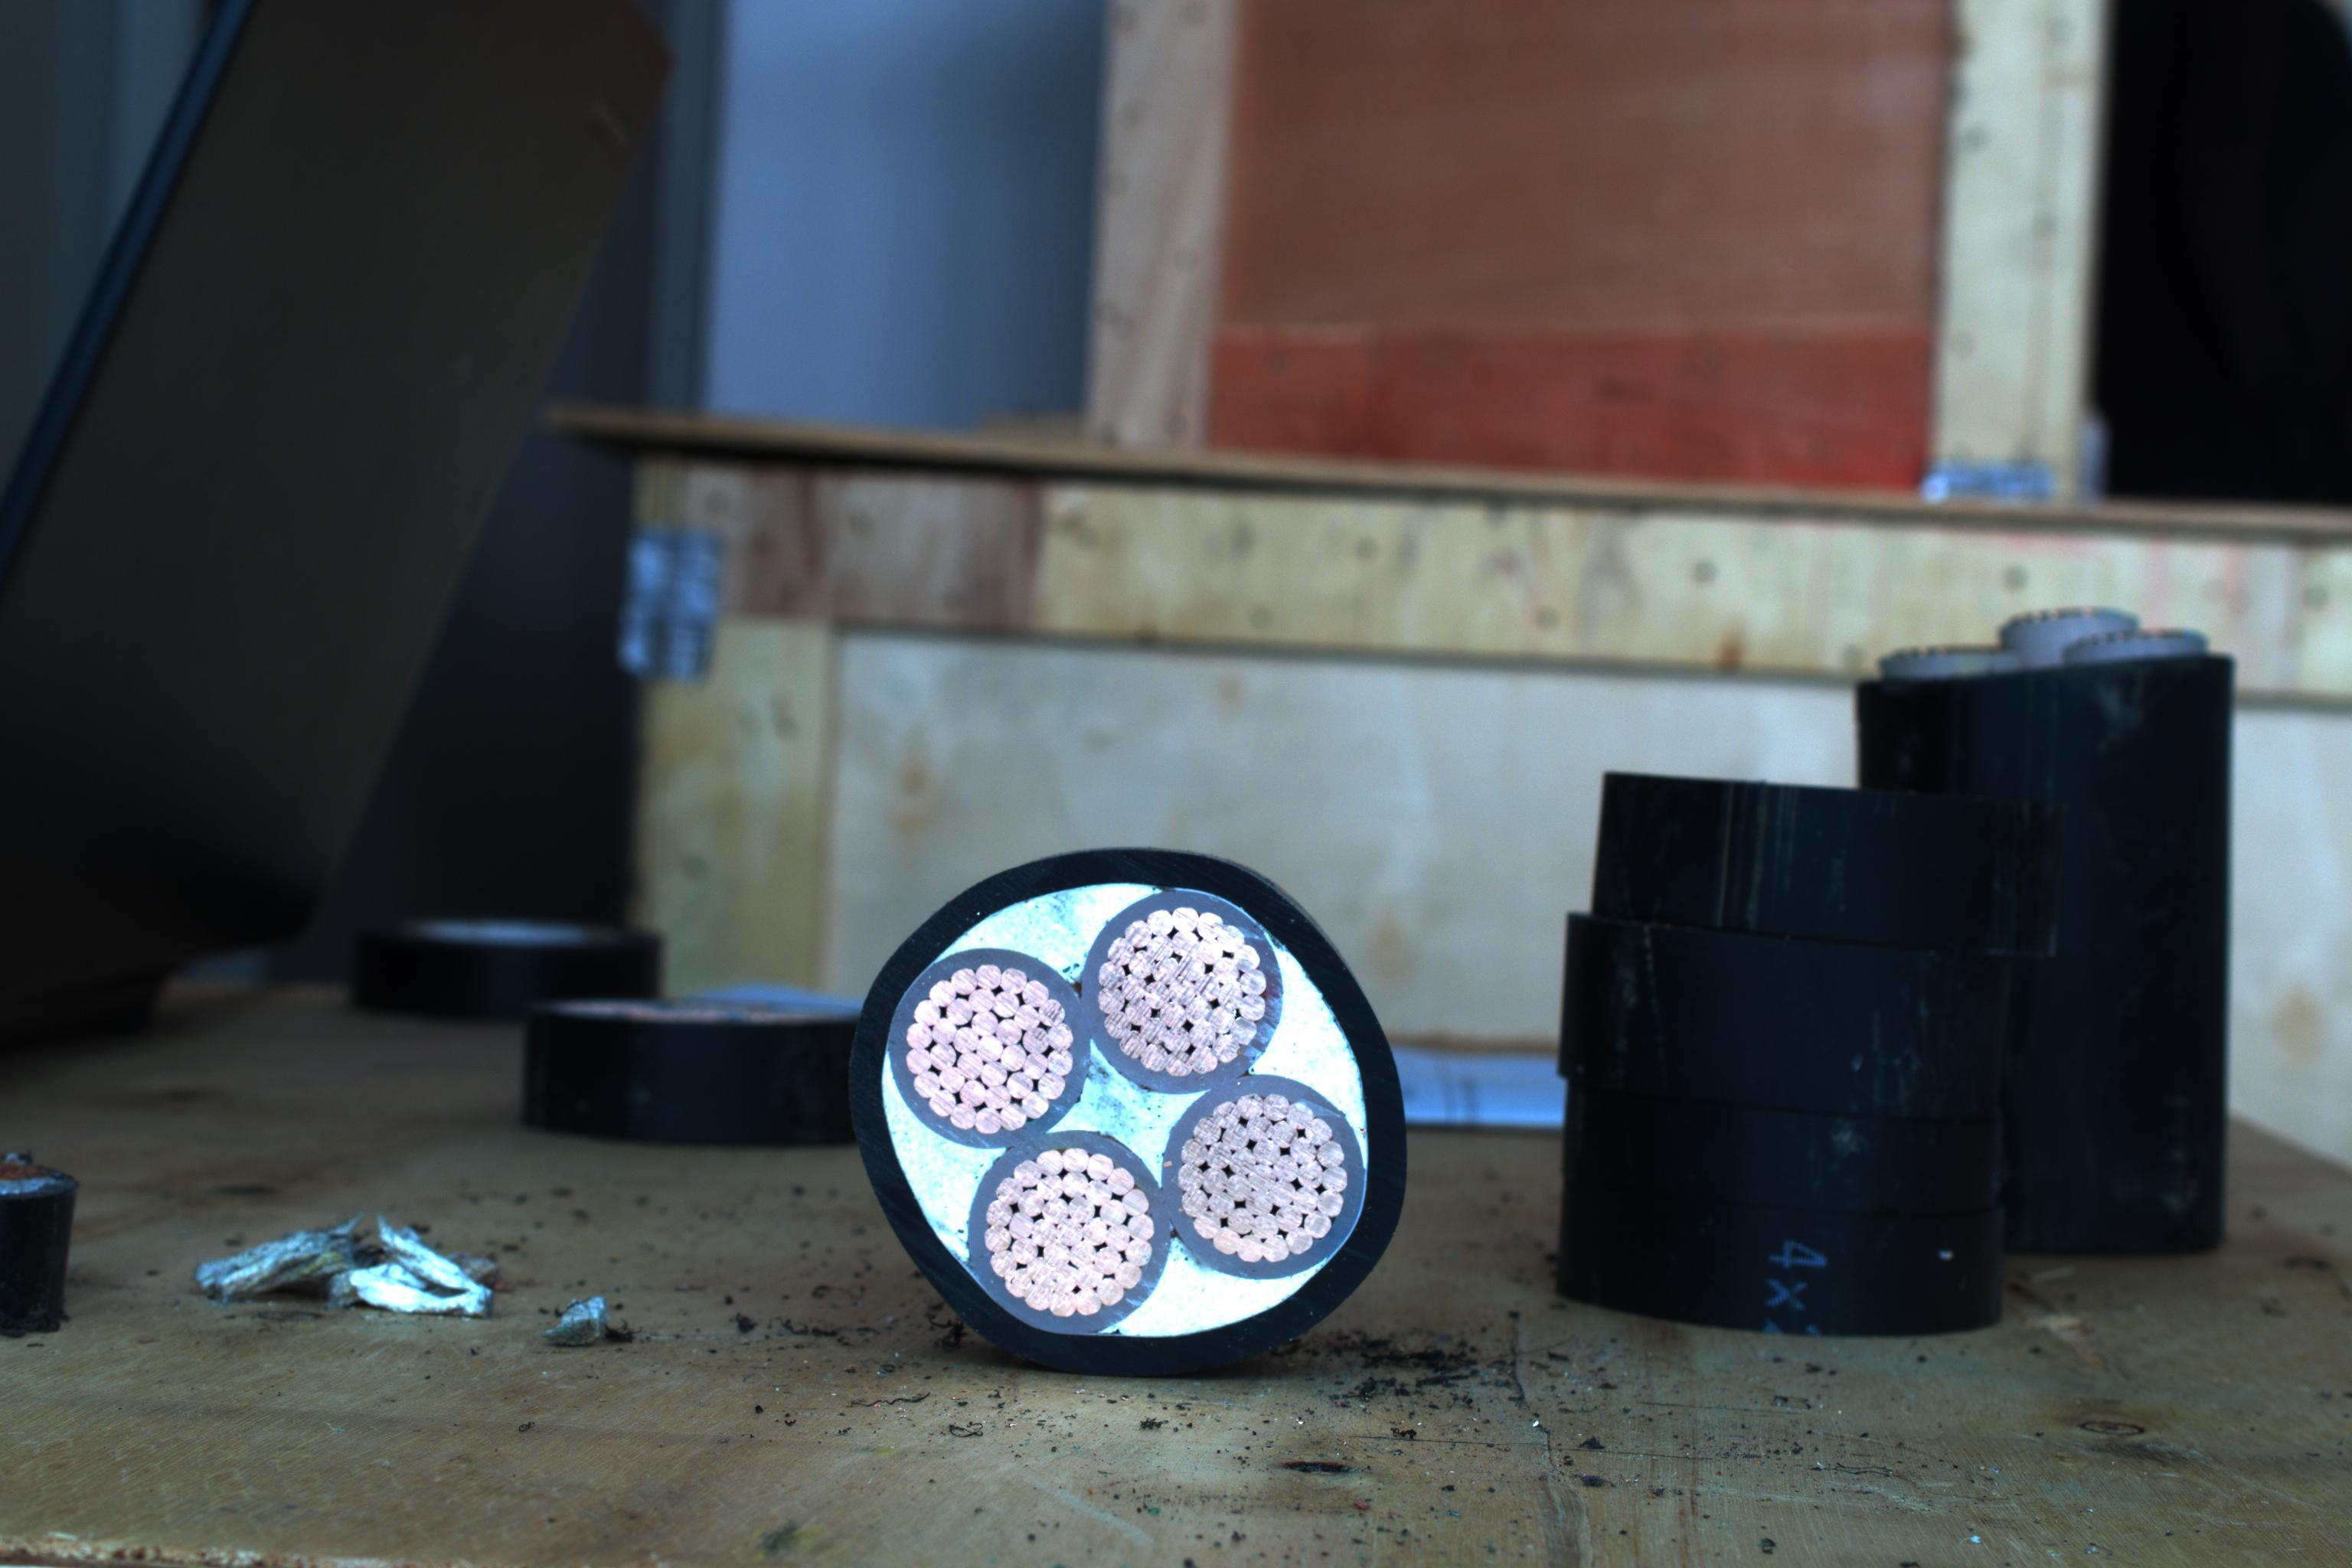YJV_0.6_1kV_4x240: (845, 850, 1403, 1332)
